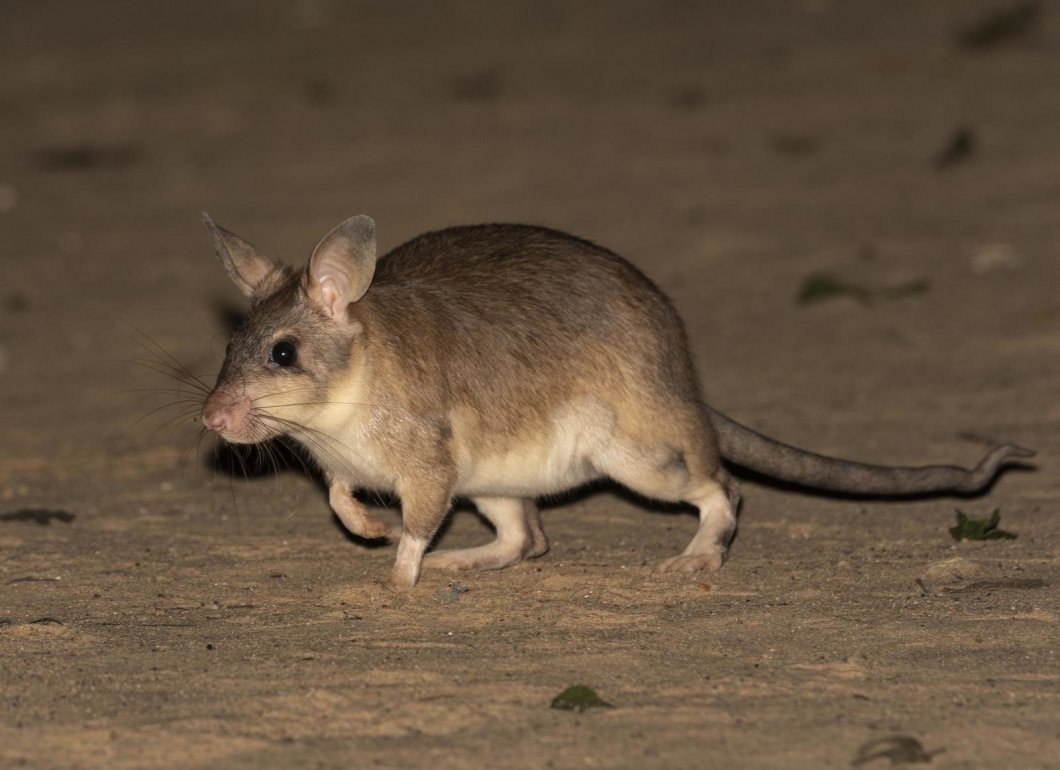rat: (172, 173, 902, 609)
